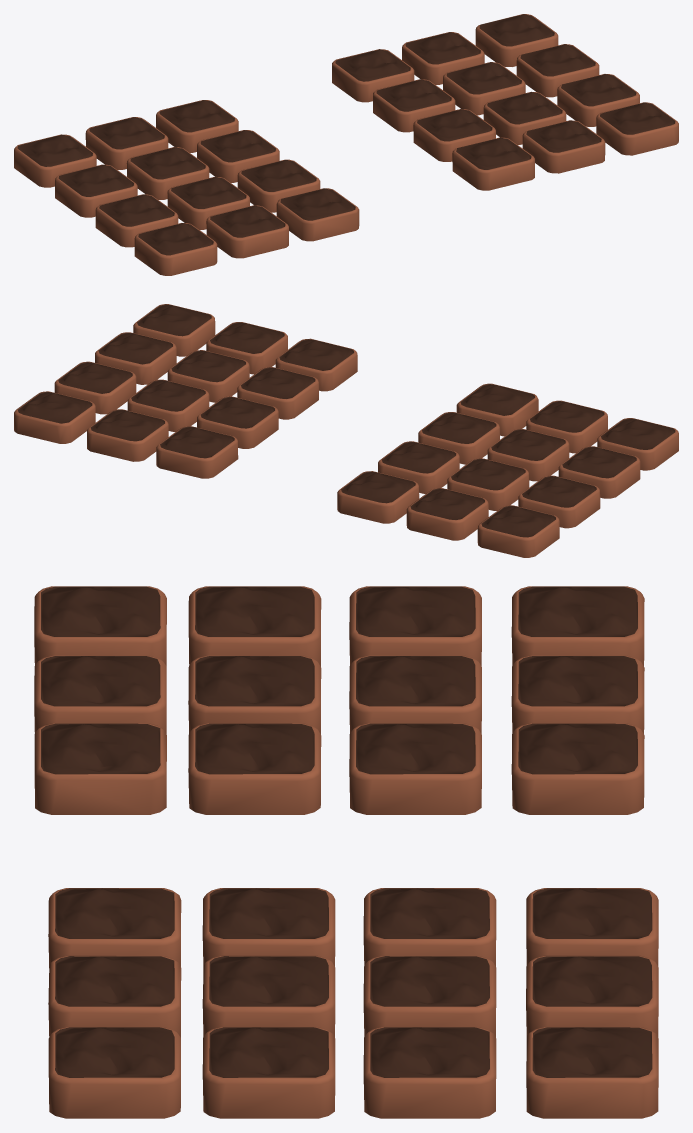
Rendered from ada3 ekilmiü.fbx.
3 renders of one model, top to bottom at view 1: azimuth 30°, elevation 25°; view 2: azimuth 150°, elevation 25°; view 3: azimuth 270°, elevation 25°, orthographic. The views are drawn at different scales.
Parts seen in each view (by area): view 1: kahve karo.235, kahve karo.251, kahve karo.253, kahve karo.236, kahve karo.240, kahve karo.252, kahve karo.226, kahve karo.241, kahve karo.243, kahve karo.244, kahve karo.229, kahve karo.246 (+12 smaller); view 2: kahve karo.226, kahve karo.241, kahve karo.243, kahve karo.227, kahve karo.228, kahve karo.242, kahve karo.229, kahve karo.244, kahve karo.246, kahve karo.232, kahve karo.247, kahve karo.250 (+12 smaller); view 3: kahve karo.250, kahve karo.228, kahve karo.243, kahve karo.246, kahve karo.234, kahve karo.231, kahve karo.240, kahve karo.253, kahve karo.242, kahve karo.248, kahve karo.252, kahve karo.245 (+12 smaller).
Boxes of the visible parts, box(x1,y1,x2,y2) form: kahve karo.235: box(134, 223, 217, 275); kahve karo.251: box(452, 137, 534, 190); kahve karo.253: box(596, 102, 678, 155); kahve karo.236: box(206, 205, 288, 258); kahve karo.240: box(276, 188, 359, 241); kahve karo.252: box(522, 120, 605, 173); kahve karo.226: box(14, 134, 96, 187); kahve karo.241: box(332, 49, 414, 102); kahve karo.243: box(475, 14, 558, 66); kahve karo.244: box(373, 79, 455, 132); kahve karo.229: box(55, 164, 137, 217); kahve karo.246: box(516, 44, 599, 97); kahve karo.226: box(477, 505, 559, 557); kahve karo.241: box(156, 426, 238, 478); kahve karo.243: box(14, 391, 95, 443); kahve karo.227: box(406, 488, 488, 540); kahve karo.228: box(337, 471, 419, 523); kahve karo.242: box(87, 409, 168, 461); kahve karo.229: box(518, 475, 600, 528); kahve karo.244: box(197, 396, 278, 448); kahve karo.246: box(54, 361, 136, 414); kahve karo.232: box(558, 446, 640, 498); kahve karo.247: box(237, 367, 318, 419); kahve karo.250: box(95, 332, 176, 384); kahve karo.250: box(202, 1027, 335, 1118); kahve karo.228: box(511, 723, 644, 814); kahve karo.243: box(526, 1027, 658, 1118); kahve karo.246: box(363, 1027, 496, 1118); kahve karo.234: box(188, 723, 321, 814); kahve karo.231: box(349, 723, 481, 814); kahve karo.240: box(34, 723, 166, 814); kahve karo.253: box(48, 1027, 180, 1118); kahve karo.242: box(526, 955, 658, 1038); kahve karo.248: box(202, 955, 335, 1036); kahve karo.252: box(48, 955, 181, 1037); kahve karo.245: box(363, 956, 496, 1037).
Size of the model in its own units: 683 by 36.23 by 357.
